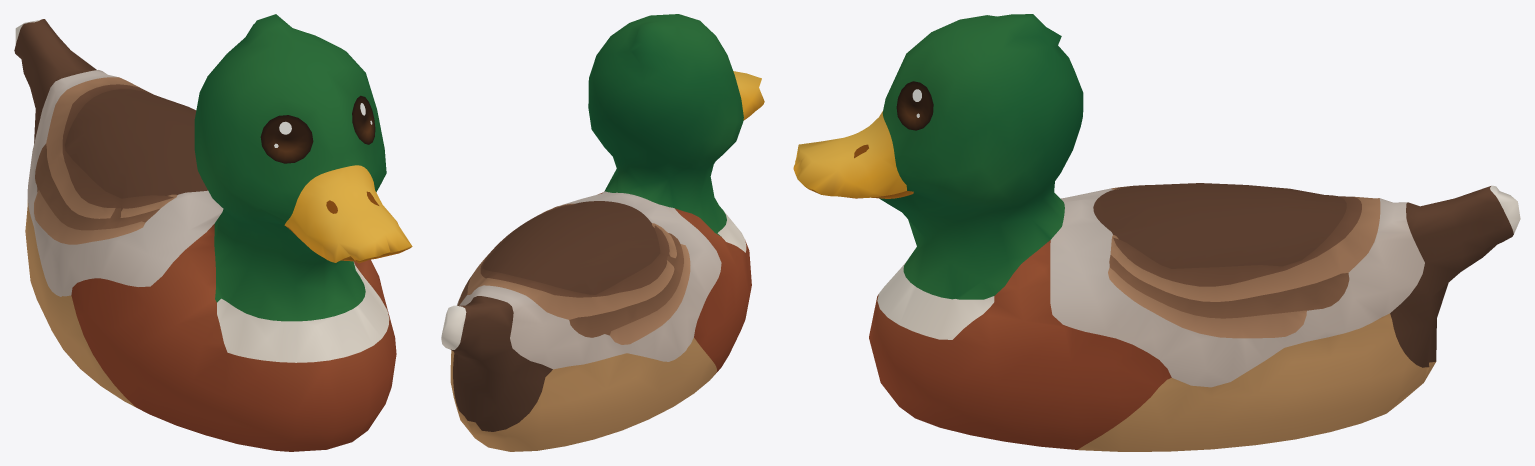
The model's file is Duck.glb.
The picture shows the model from 3 angles, left to right: view 1: azimuth 30°, elevation 25°; view 2: azimuth 150°, elevation 25°; view 3: azimuth 270°, elevation 25°; orthographic projection. The views are drawn at different scales.
Parts seen in each view (by area): view 1: LuckyDuck; view 2: LuckyDuck; view 3: LuckyDuck.
Part boxes in pixels (x1=…): LuckyDuck: x1=14, y1=14, x2=412, y2=451; LuckyDuck: x1=441, y1=14, x2=764, y2=451; LuckyDuck: x1=793, y1=14, x2=1520, y2=451.
Size of the model in its own units: 0.4575 by 0.6521 by 1.12.
